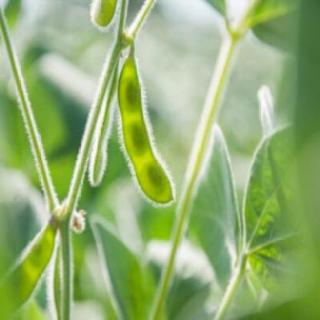soya: (118, 60, 176, 206), (21, 232, 56, 301)
